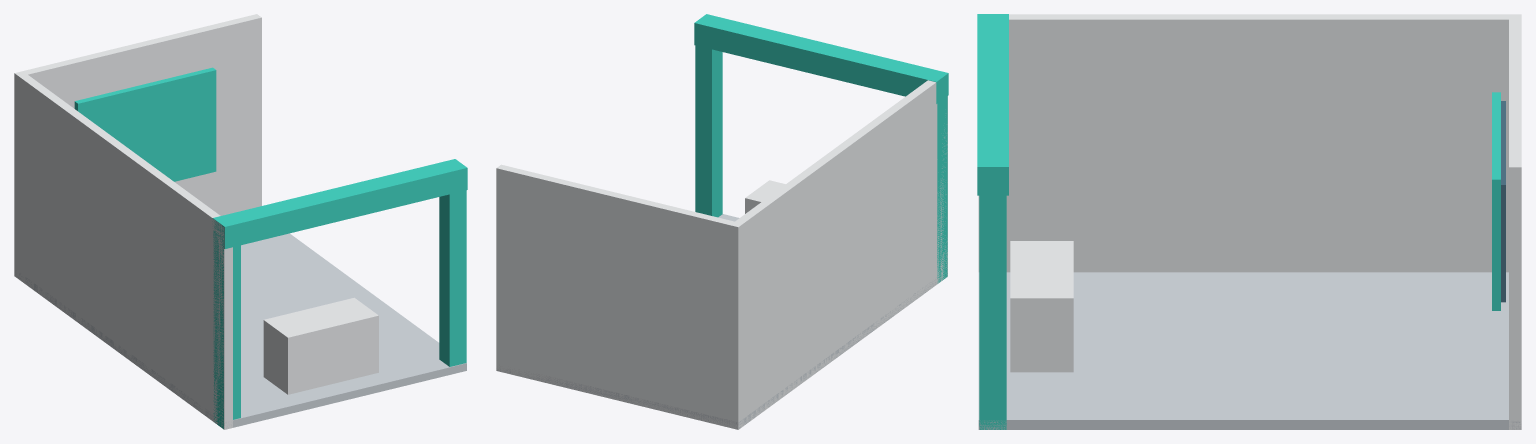
The picture shows the model from 3 angles, left to right: view 1: azimuth 30°, elevation 25°; view 2: azimuth 150°, elevation 25°; view 3: azimuth 270°, elevation 25°; orthographic projection. The views are drawn at different scales.
Visible parts, largest first — view 1: Exhibition Booth Concept; view 2: Exhibition Booth Concept; view 3: Exhibition Booth Concept.
Boxes of the visible parts, x1,y1,x2,y2 form: Exhibition Booth Concept: (14, 14, 467, 429); Exhibition Booth Concept: (496, 14, 948, 429); Exhibition Booth Concept: (977, 14, 1521, 429).
Bounding box in the file's own units: 4 × 3.2 × 6.02.
